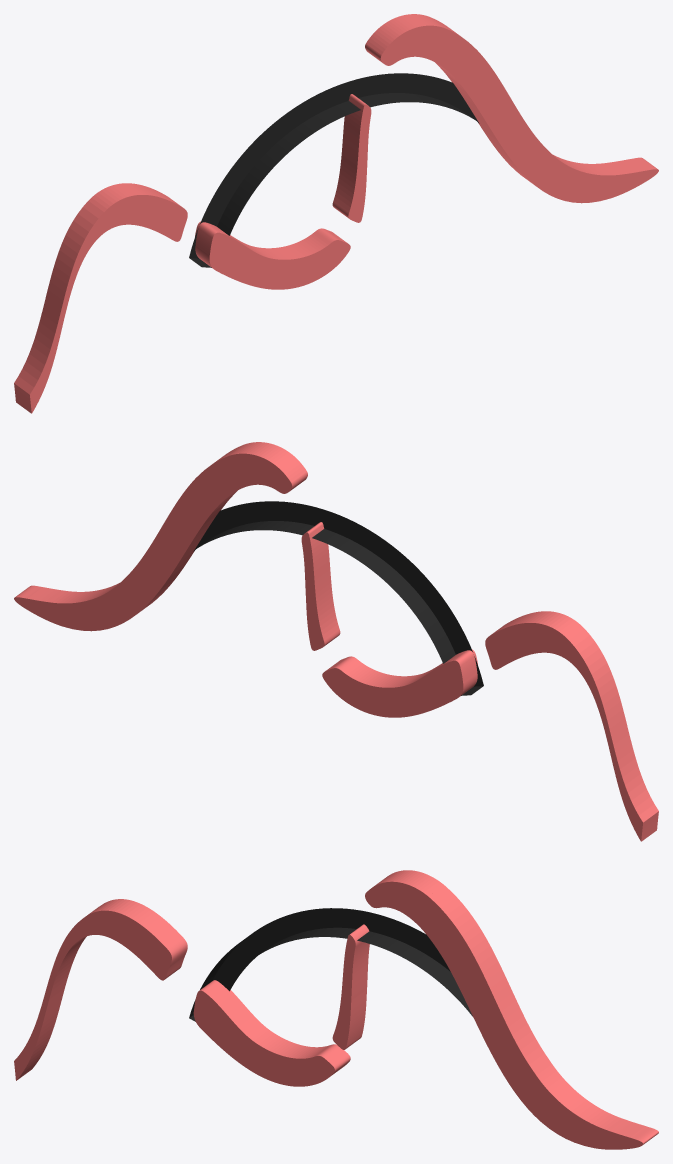
The model's file is add_arch_black.glb.
The picture shows the model from 3 angles, top to bottom: view 1: azimuth 30°, elevation 25°; view 2: azimuth 150°, elevation 25°; view 3: azimuth 330°, elevation 25°; orthographic projection.
Parts seen in each view (by area): view 1: shape_03, virtual_arch_black, shape_00, shape_01, shape_02; view 2: shape_03, virtual_arch_black, shape_00, shape_01, shape_02; view 3: shape_03, virtual_arch_black, shape_00, shape_01, shape_02.
Boxes of the visible parts, x1,y1,x2,y2 form: shape_03: (365, 14, 658, 203); virtual_arch_black: (189, 73, 479, 267); shape_00: (14, 183, 187, 413); shape_01: (195, 221, 350, 289); shape_02: (332, 94, 371, 222); shape_03: (14, 442, 307, 631); virtual_arch_black: (193, 501, 483, 695); shape_00: (485, 611, 658, 841); shape_01: (322, 649, 477, 717); shape_02: (301, 522, 340, 650); shape_03: (365, 870, 658, 1149); virtual_arch_black: (189, 908, 472, 1021); shape_00: (14, 899, 187, 1080); shape_01: (193, 980, 350, 1086); shape_02: (332, 924, 369, 1049).
Size of the model in its own units: 6.9 by 3.06 by 0.3.
